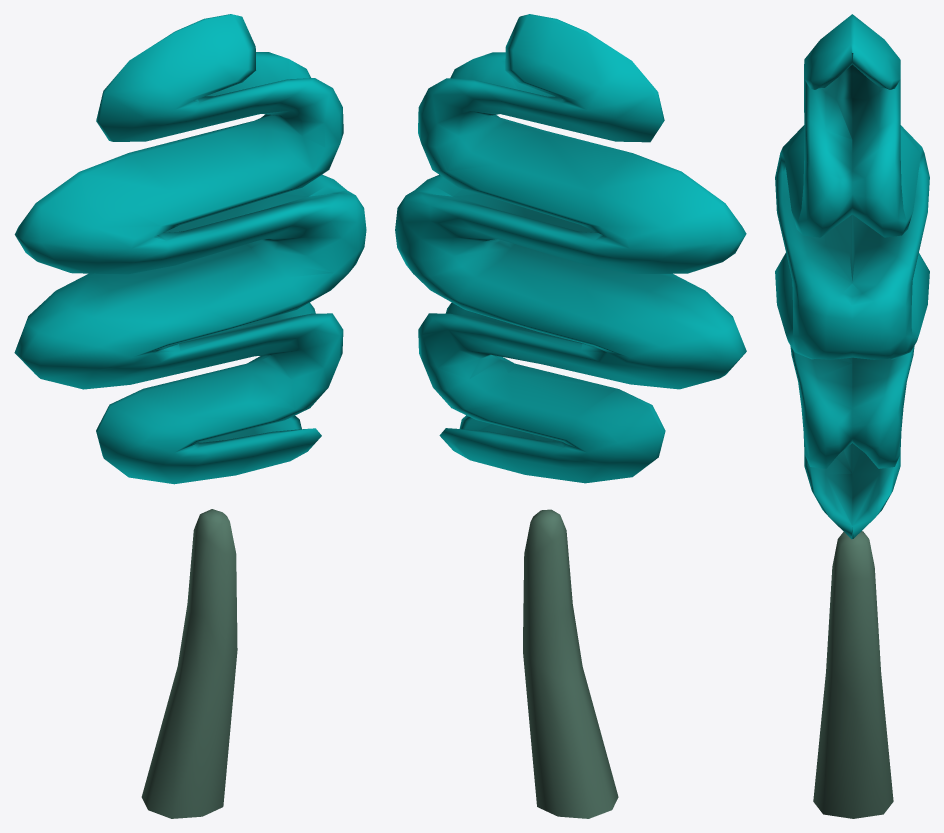
File: space-tree-float.glb
3 renders of one model, left to right at view 1: azimuth 30°, elevation 25°; view 2: azimuth 150°, elevation 25°; view 3: azimuth 270°, elevation 25°, orthographic.
Parts seen in each view (by area): view 1: space-tree-float; view 2: space-tree-float; view 3: space-tree-float.
Part boxes in pixels (<box>): space-tree-float: <box>14,14,366,818</box>; space-tree-float: <box>395,14,746,818</box>; space-tree-float: <box>775,14,929,818</box>.
Bounding box in the file's own units: 1.63 × 3.6 × 0.6444.
